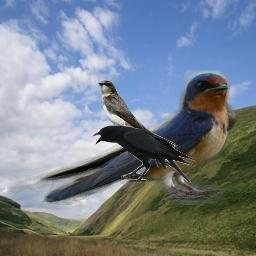Crow: (92, 125, 196, 183)
Swallow: (6, 70, 240, 205), (98, 80, 160, 148)
